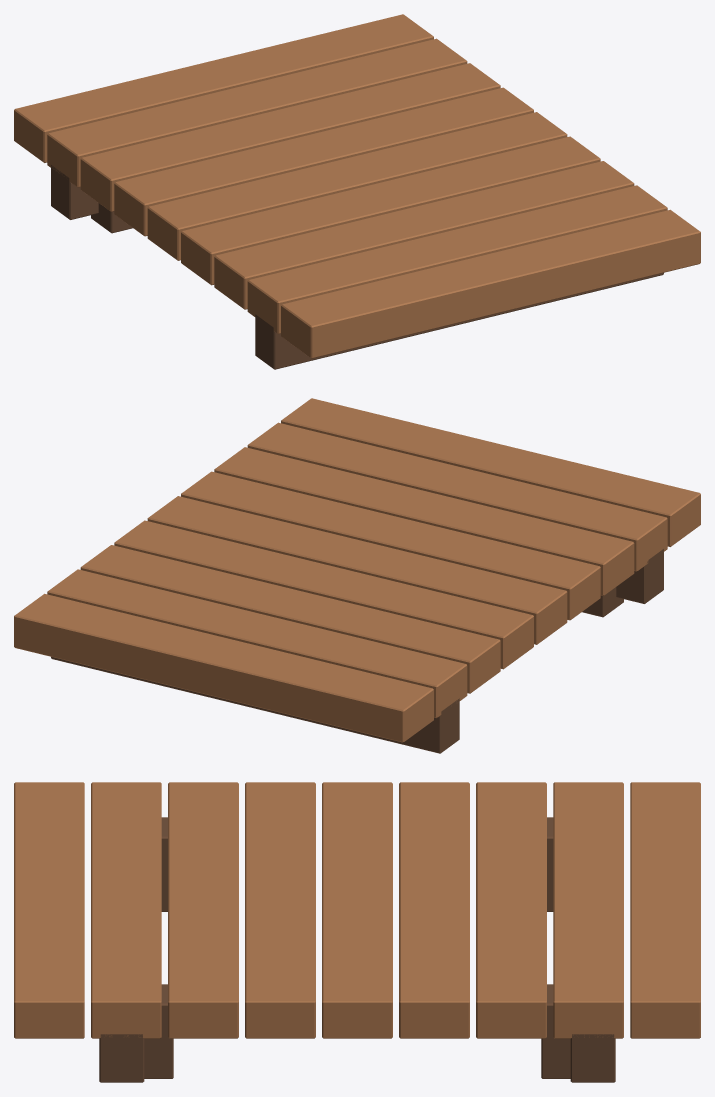
File: wood_platform_medium_01.glb
The picture shows the model from 3 angles, top to bottom: view 1: azimuth 30°, elevation 25°; view 2: azimuth 150°, elevation 25°; view 3: azimuth 270°, elevation 25°; orthographic projection. The views are drawn at different scales.
Parts seen in each view (by area): view 1: wood_platform_medium_01; view 2: wood_platform_medium_01; view 3: wood_platform_medium_01.
Boxes of the visible parts, x1,y1,x2,y2 form: wood_platform_medium_01: [14, 14, 700, 369]; wood_platform_medium_01: [14, 398, 700, 753]; wood_platform_medium_01: [14, 782, 700, 1082].
Bounding box in the file's own units: 1.5 × 0.3 × 1.98.
